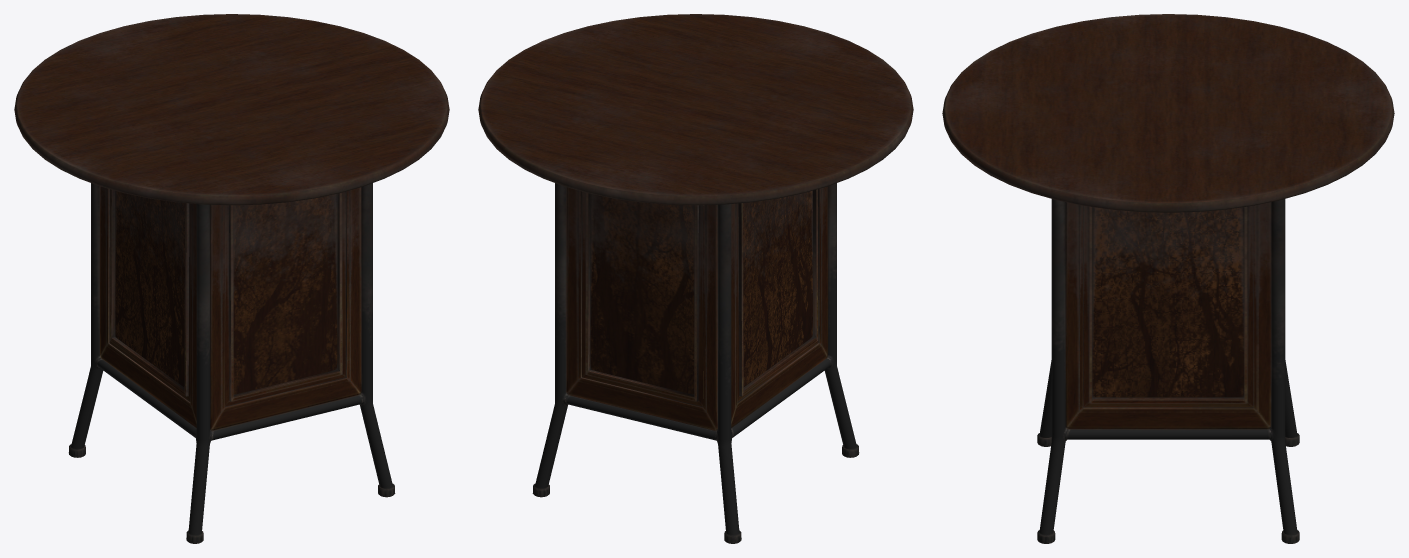
The model's file is ph-round_wooden_table_02.glb.
3 views of the same model, side by side, from view 1: azimuth 30°, elevation 25°; view 2: azimuth 150°, elevation 25°; view 3: azimuth 270°, elevation 25° (orthographic). The views are drawn at different scales.
Visible parts, largest first — view 1: round_wooden_table_02; view 2: round_wooden_table_02; view 3: round_wooden_table_02.
Part boxes in pixels (left/top/right/bottom): round_wooden_table_02: left=14, top=14, right=449, bottom=543; round_wooden_table_02: left=478, top=14, right=913, bottom=543; round_wooden_table_02: left=942, top=14, right=1394, bottom=543.
Size of the model in its own units: 0.7962 by 0.746 by 0.7962.
1 material, 1 textured.
